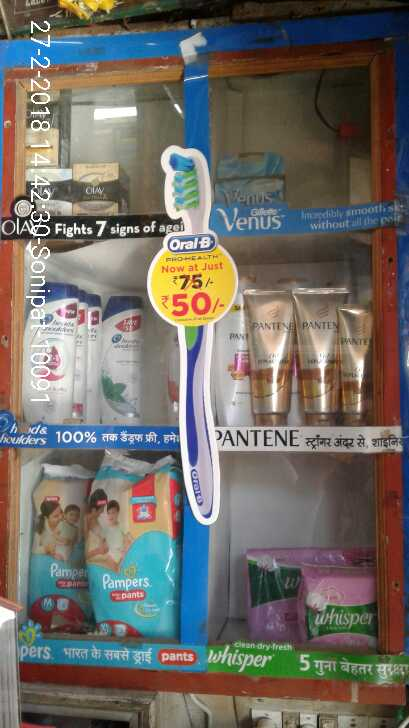venus: (216, 157, 285, 206)
